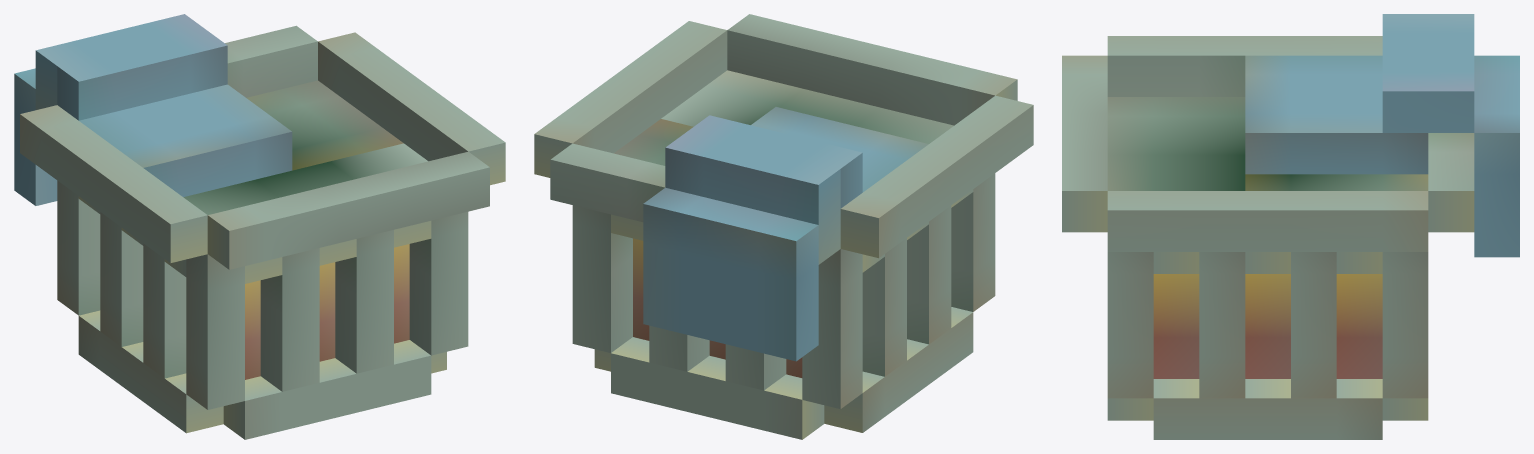
File: ClothesBasket_B_00.obj
The picture shows the model from 3 angles, left to right: view 1: azimuth 30°, elevation 25°; view 2: azimuth 150°, elevation 25°; view 3: azimuth 270°, elevation 25°; orthographic projection. The views are drawn at different scales.
Parts seen in each view (by area): view 1: ClothesBasket_B_00; view 2: ClothesBasket_B_00; view 3: ClothesBasket_B_00.
Part boxes in pixels (x1,y1,x2,y2): ClothesBasket_B_00: [14, 14, 505, 439]; ClothesBasket_B_00: [534, 14, 1033, 439]; ClothesBasket_B_00: [1062, 14, 1519, 439].
Bounding box in the file's own units: 0.45 × 0.35 × 0.5.
